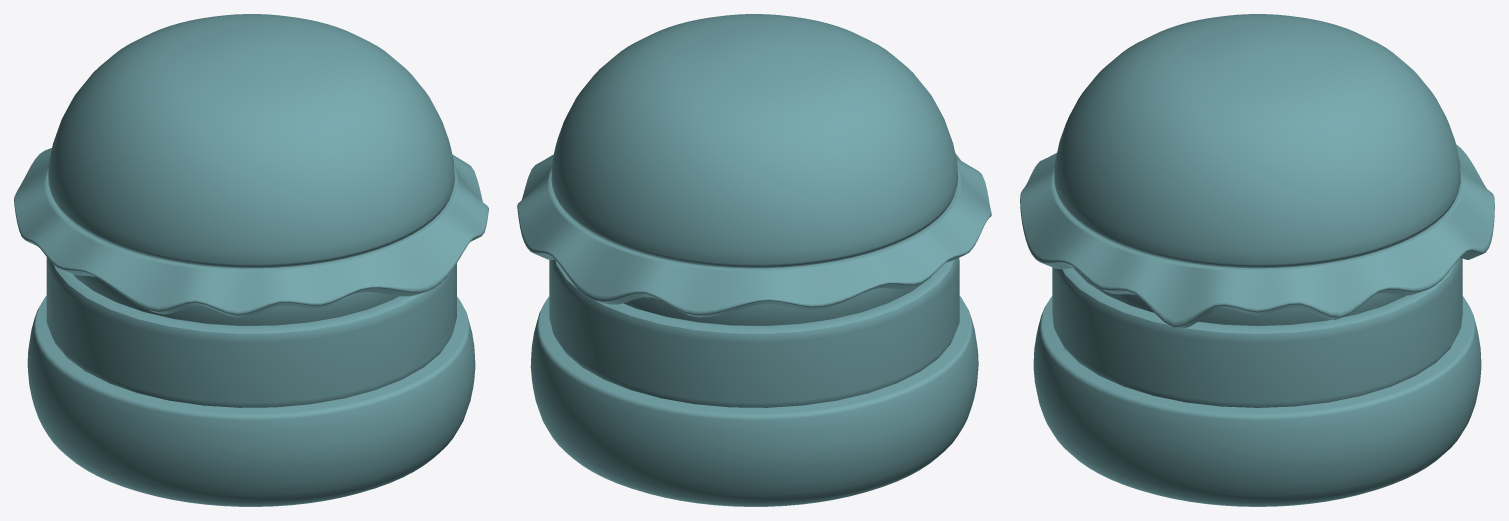
The model's file is SM_BURGER_2.fbx.
3 views of the same model, side by side, from view 1: azimuth 30°, elevation 25°; view 2: azimuth 150°, elevation 25°; view 3: azimuth 270°, elevation 25° (orthographic).
Visible parts, largest first — view 1: SM_BURGER_2; view 2: SM_BURGER_2; view 3: SM_BURGER_2.
Boxes of the visible parts, <box> form: SM_BURGER_2: <box>14,14,488,506</box>; SM_BURGER_2: <box>517,14,991,506</box>; SM_BURGER_2: <box>1020,14,1494,506</box>.
Bounding box in the file's own units: 21.6 × 19.27 × 21.6.
